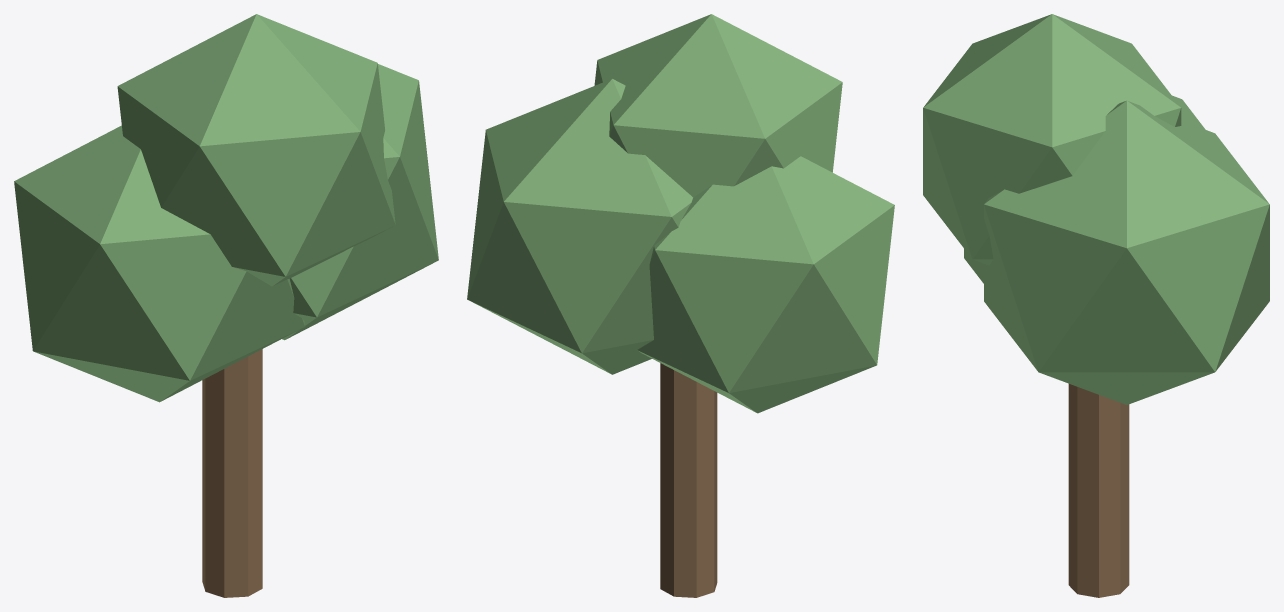
The model's file is OakTree.fbx.
3 views of the same model, side by side, from view 1: azimuth 30°, elevation 25°; view 2: azimuth 150°, elevation 25°; view 3: azimuth 270°, elevation 25° (orthographic). The views are drawn at different scales.
Visible parts, largest first — view 1: OakTree; view 2: OakTree; view 3: OakTree.
Boxes of the visible parts, <box> form: OakTree: <box>14,14,438,597</box>; OakTree: <box>467,14,894,597</box>; OakTree: <box>923,14,1269,597</box>.
Bounding box in the file's own units: 1.92 × 2.7 × 1.49.
